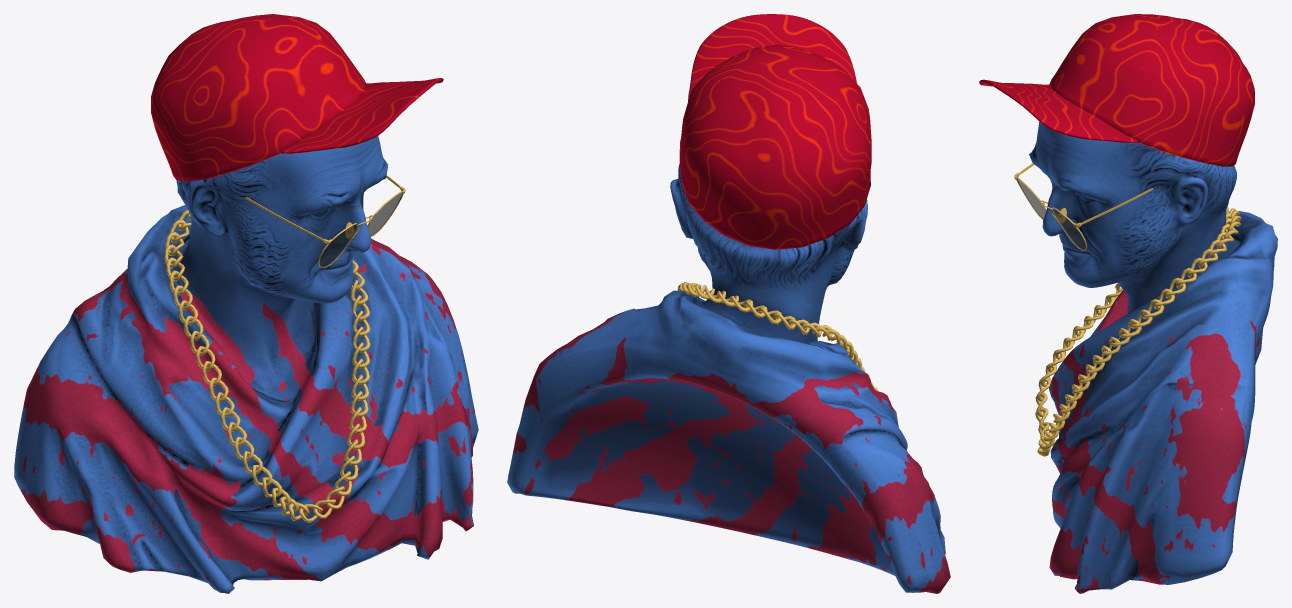
Rendered from statue.glb.
3 views of the same model, side by side, from view 1: azimuth 30°, elevation 25°; view 2: azimuth 150°, elevation 25°; view 3: azimuth 270°, elevation 25° (orthographic). The views are drawn at different scales.
Visible parts, largest first — view 1: Statue, Cap2_Mat_0, Torus.003, Cylinder_Cylinder.001; view 2: Statue, Cap2_Mat_0, Torus.003; view 3: Statue, Cap2_Mat_0, Torus.003, Cylinder_Cylinder.001.
Boxes of the visible parts, x1,y1,x2,y2 form: Statue: (14,136,478,593); Cap2_Mat_0: (151,14,443,181); Torus.003: (164,209,370,522); Cylinder_Cylinder.001: (245,175,405,267); Statue: (507,164,950,593); Cap2_Mat_0: (679,14,871,249); Torus.003: (677,282,878,391); Statue: (1029,121,1277,593); Cap2_Mat_0: (979,14,1254,166); Torus.003: (1035,207,1241,456); Cylinder_Cylinder.001: (1014,163,1153,250).
Size of the model in its own units: 0.6823 by 0.7927 by 0.4288.
Materials: 3 (1 with a texture image).
